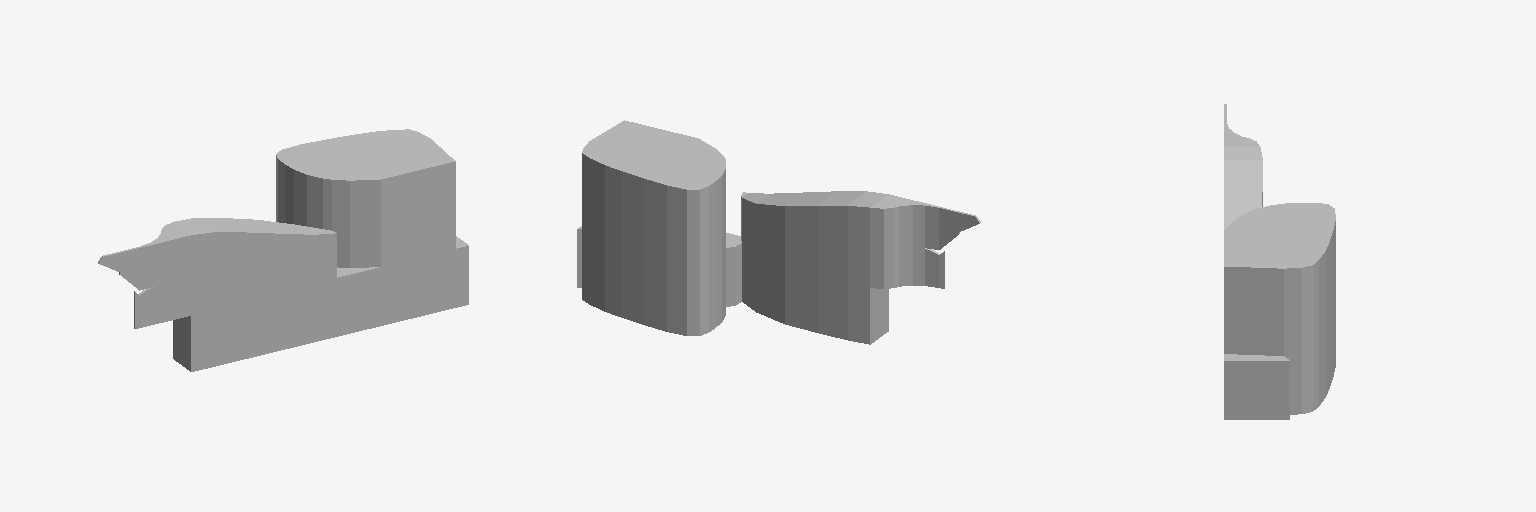
The model's file is keep1gaterocks.obj.
The picture shows the model from 3 angles: view 1: azimuth 30°, elevation 25°; view 2: azimuth 150°, elevation 25°; view 3: azimuth 270°, elevation 25°; orthographic projection.
Parts seen in each view (by area): view 1: entity2_brush1, entity3_brush102, entity3_brush9, entity3_brush111, entity2_brush0, entity2_brush35, entity2_brush33, entity2_brush9, entity2_brush10, entity3_brush3, entity3_brush110, entity2_brush34 (+26 smaller); view 2: entity2_brush1, entity2_brush0, entity2_brush35, entity2_brush33, entity2_brush29, entity2_brush10, entity2_brush11, entity2_brush9, entity3_brush104, entity2_brush30, entity3_brush102, entity3_brush111 (+22 smaller); view 3: entity3_brush102, entity4_brush0, entity3_brush81, entity3_brush60, entity4_brush2, entity2_brush35, entity4_brush1, entity3_brush111, entity2_brush0, entity3_brush106, entity3_brush110, entity3_brush66 (+1 smaller).
Boxes of the visible parts, <box> form: entity2_brush1: <box>161,222,190,320</box>; entity3_brush102: <box>395,138,455,196</box>; entity3_brush9: <box>332,281,380,328</box>; entity3_brush111: <box>343,145,405,207</box>; entity2_brush0: <box>194,218,241,271</box>; entity2_brush35: <box>223,218,275,264</box>; entity2_brush33: <box>174,218,212,277</box>; entity2_brush9: <box>276,249,309,292</box>; entity2_brush10: <box>242,257,275,300</box>; entity3_brush3: <box>424,263,455,305</box>; entity3_brush110: <box>368,145,423,201</box>; entity2_brush34: <box>258,220,309,256</box>; entity2_brush1: <box>870,194,908,288</box>; entity2_brush0: <box>818,191,866,245</box>; entity2_brush35: <box>785,191,837,238</box>; entity2_brush33: <box>848,191,887,249</box>; entity2_brush29: <box>899,199,917,286</box>; entity2_brush10: <box>785,230,817,273</box>; entity2_brush11: <box>818,239,847,280</box>; entity2_brush9: <box>756,218,784,264</box>; entity3_brush104: <box>621,161,659,206</box>; entity2_brush30: <box>913,201,926,285</box>; entity3_brush102: <box>591,120,654,149</box>; entity3_brush111: <box>636,133,698,166</box>; entity3_brush102: <box>1224,251,1283,296</box>; entity4_brush0: <box>1224,375,1289,409</box>; entity3_brush81: <box>1224,295,1283,326</box>; entity3_brush60: <box>1224,324,1283,355</box>; entity4_brush2: <box>1224,354,1289,374</box>; entity2_brush35: <box>1224,181,1262,206</box>; entity4_brush1: <box>1224,400,1289,419</box>; entity3_brush111: <box>1224,230,1300,241</box>; entity2_brush0: <box>1224,160,1262,180</box>; entity3_brush106: <box>1284,252,1301,296</box>; entity3_brush110: <box>1224,242,1299,250</box>; entity3_brush66: <box>1284,326,1301,355</box>.
Bounding box in the file's own units: 1312 × 496 × 344.